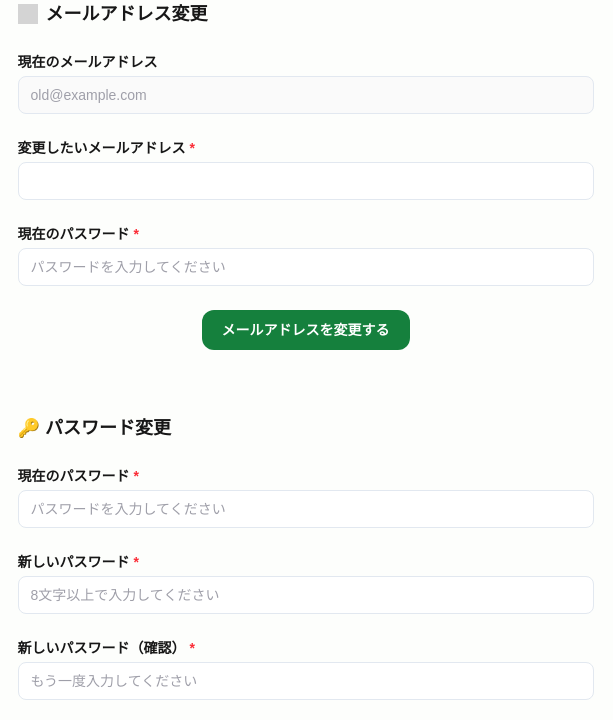
Test case: AccountForms（GATE-41: メール変更フォームの現在のパスワード欄を独立させる） › パスワード変更フォームは自身の現在のパスワード欄で独立して動作する（回帰確認）
Step 1. Type "current-pass" into the password field with placeholder "パスワードを入力してください" below "🔑 パスワード変更" → {"x": 306, "y": 509}, box top-left (18, 490), bottom-right (594, 528)
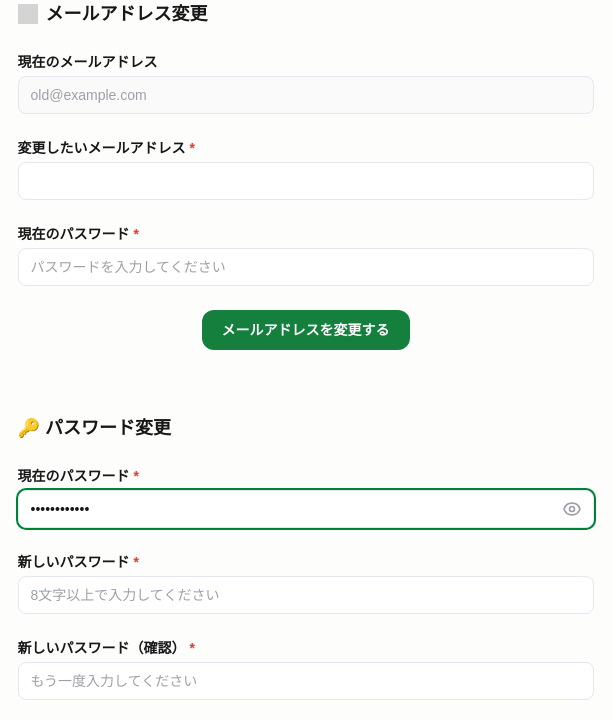
Step 2. Type "newpassword1" into the password field with placeholder "8文字以上で入力してください" → {"x": 306, "y": 595}, box top-left (18, 576), bottom-right (594, 614)
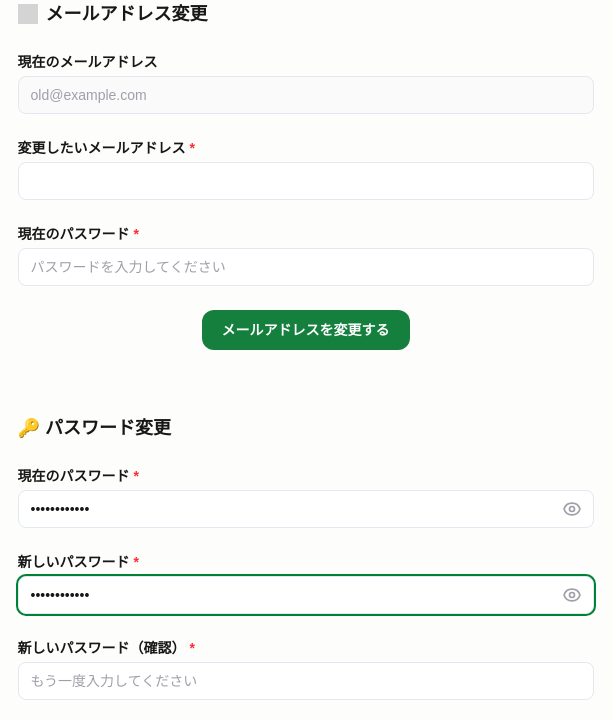
Step 3. Type "newpassword1" into the password field with placeholder "もう一度入力してください" → {"x": 306, "y": 681}, box top-left (18, 662), bottom-right (594, 700)
(page scrolled)
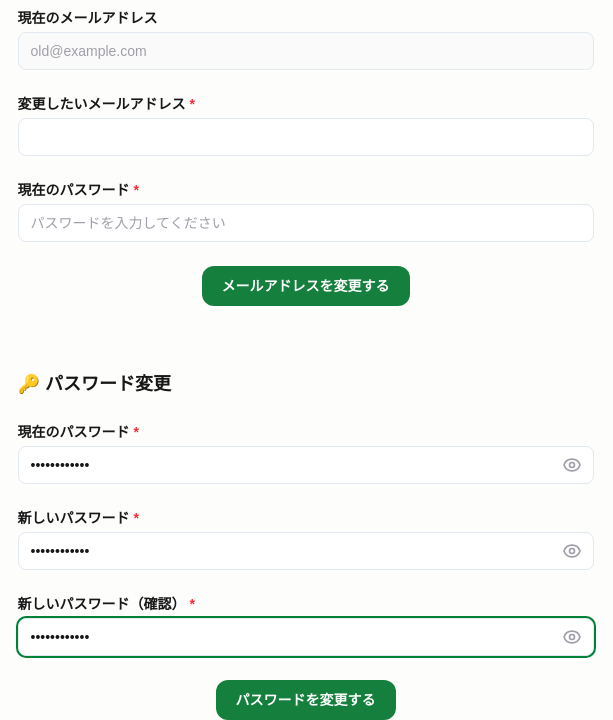
Step 4. Click the button "パスワードを変更する" → {"x": 306, "y": 700}, box top-left (216, 680), bottom-right (396, 719)
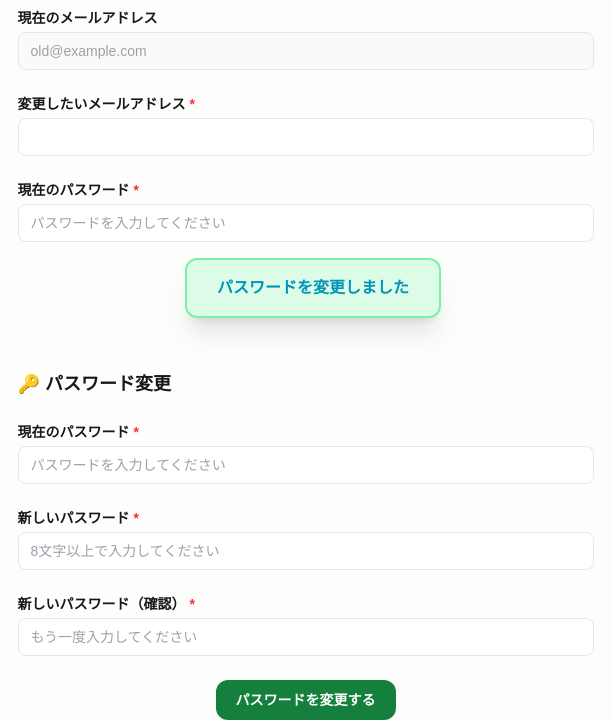
Result: the text "パスワードを変更しました" is shown at top-left (185, 258), bottom-right (441, 318)
